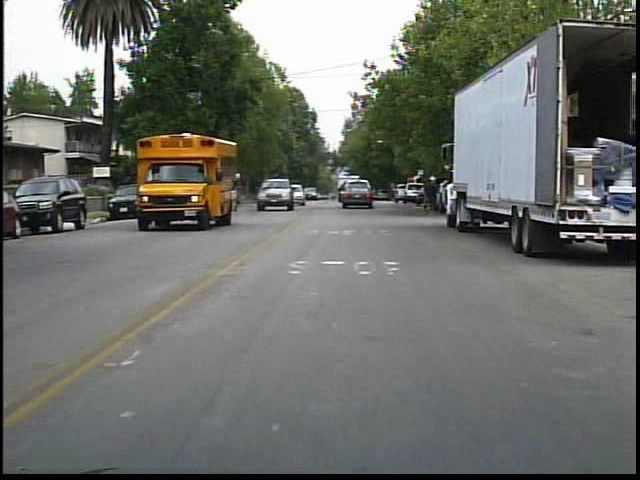person: (419, 172, 442, 220)
